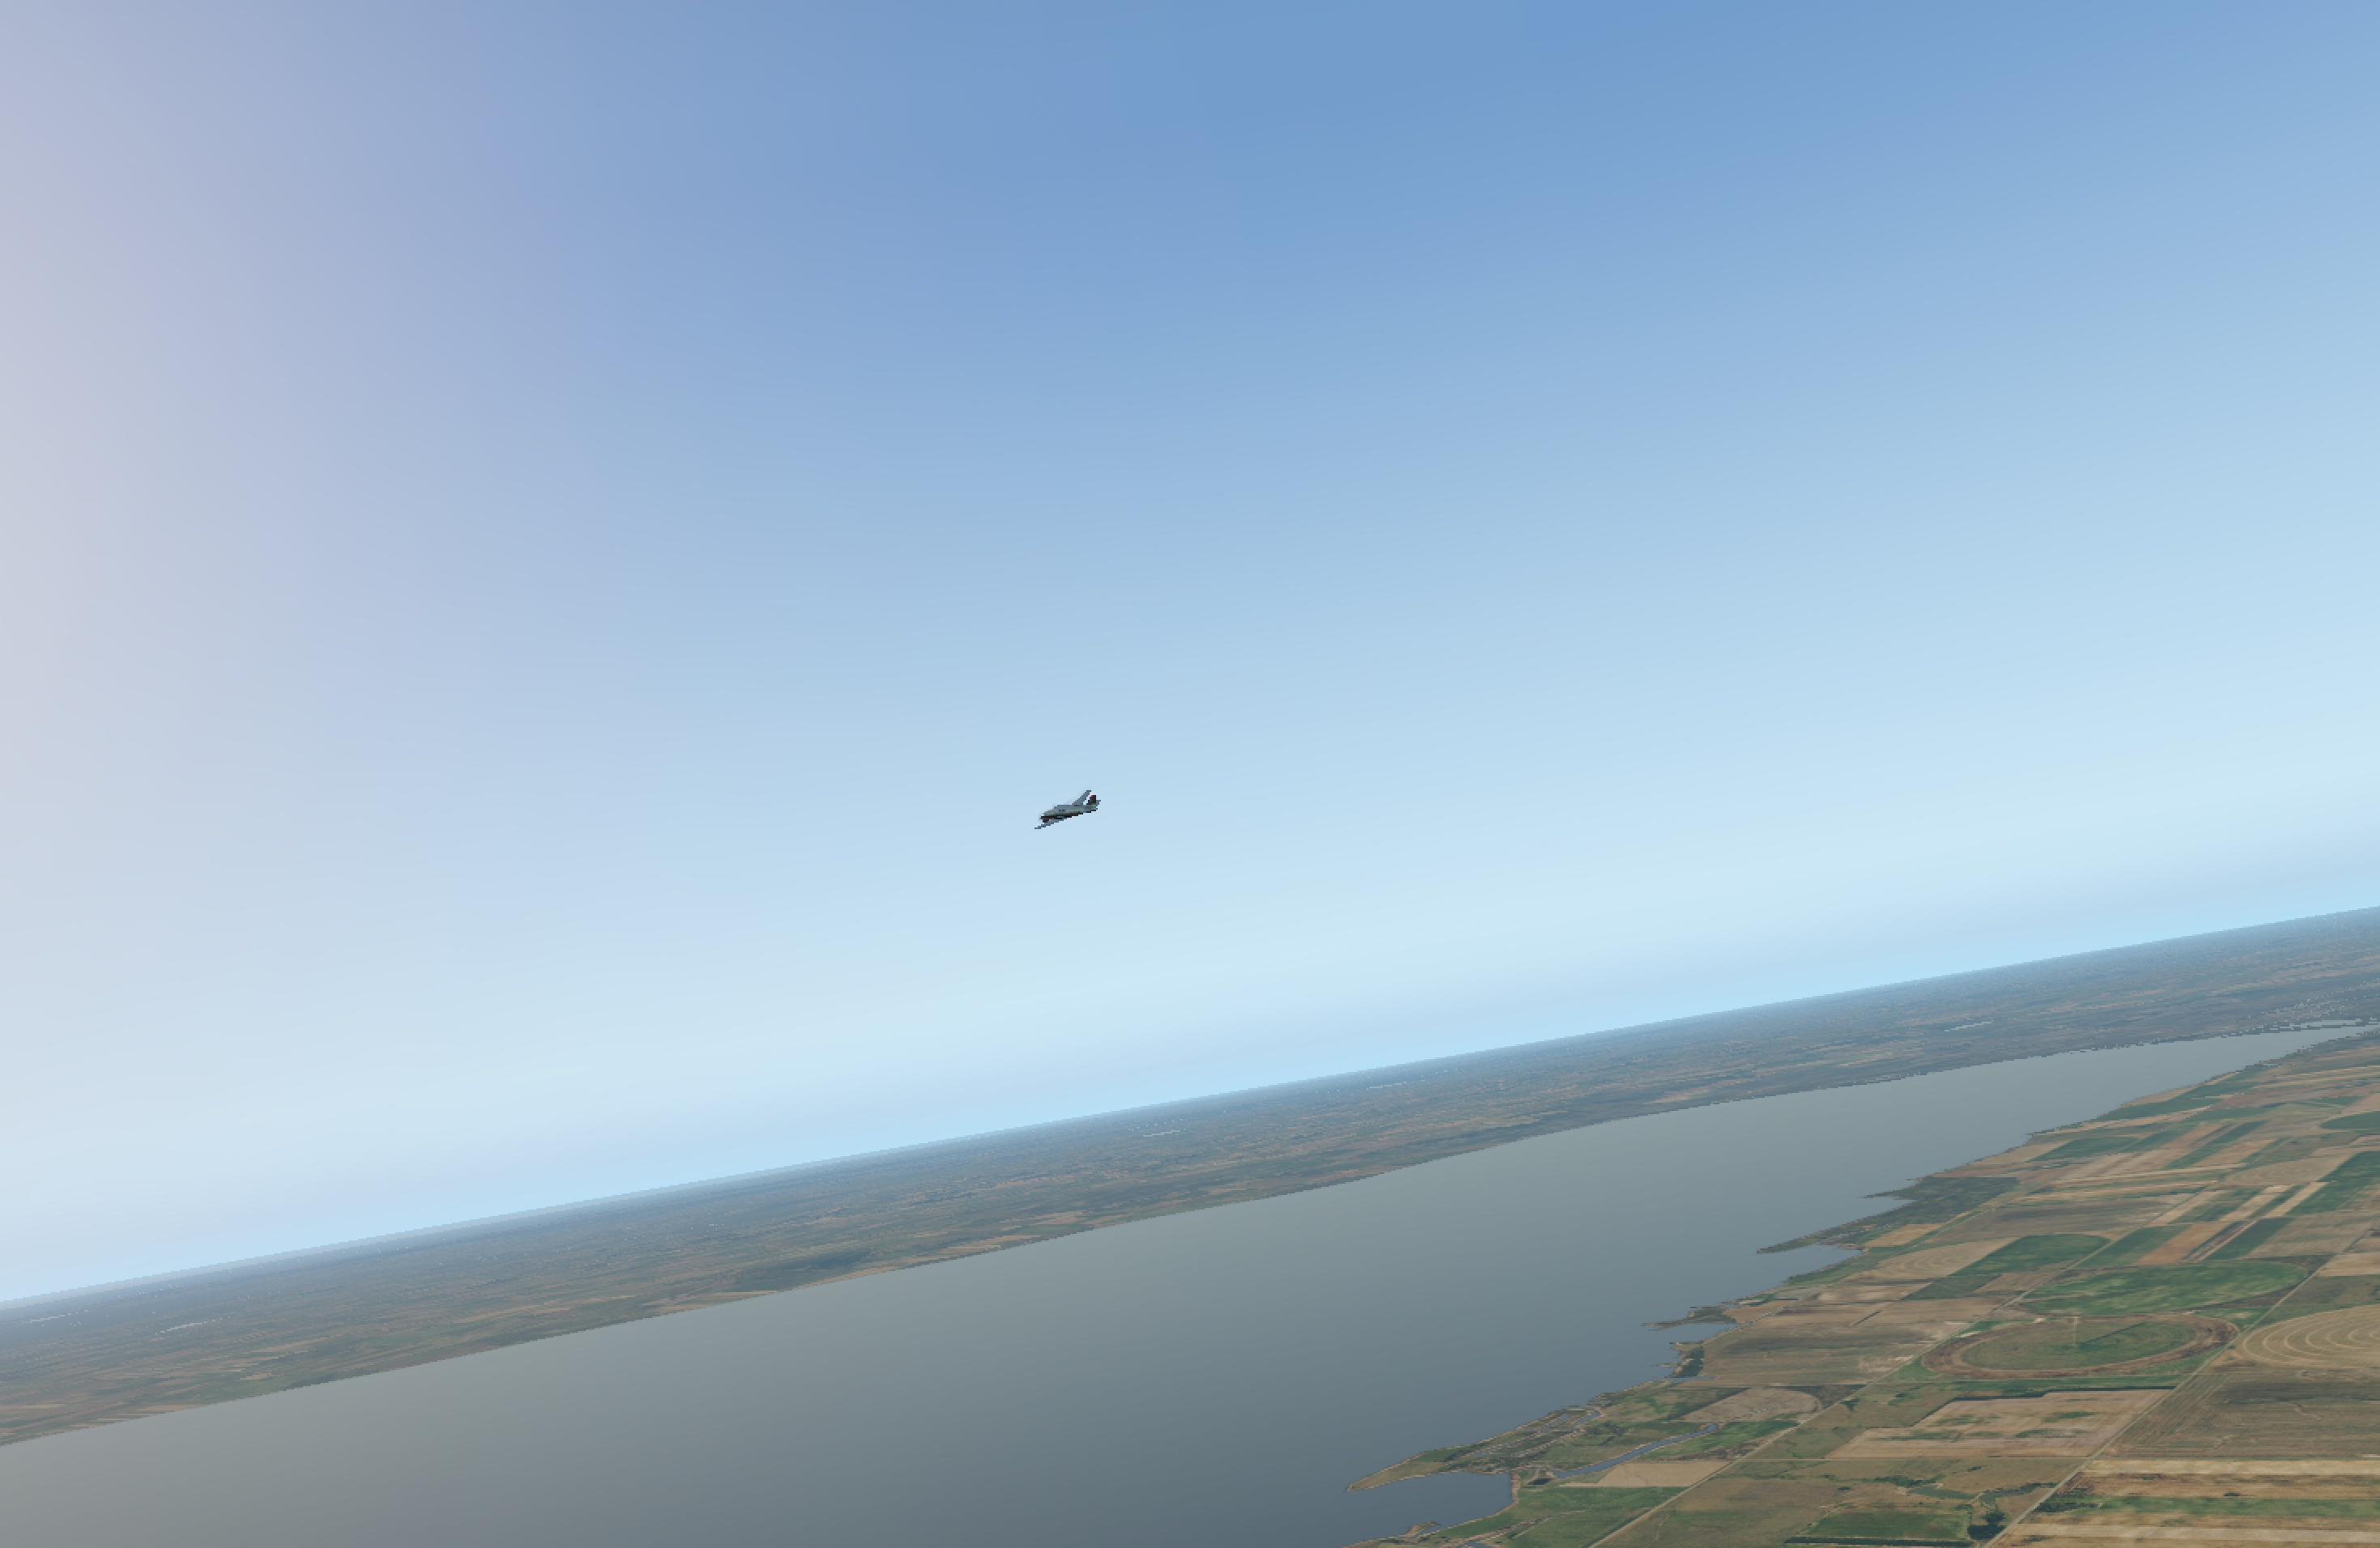aircraft: (1011, 797, 1112, 835)
